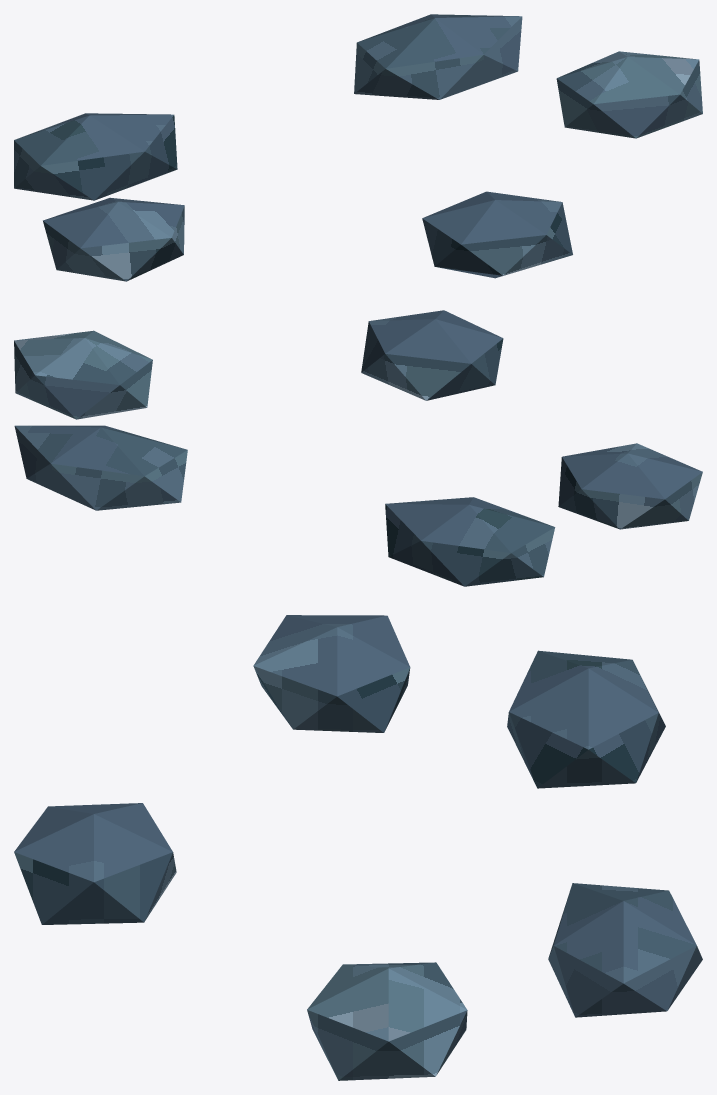
The model's file is enfeite_seixos.fbx.
The picture shows the model from 3 angles, top to bottom: view 1: azimuth 30°, elevation 25°; view 2: azimuth 150°, elevation 25°; view 3: azimuth 270°, elevation 25°; orthographic projection. The views are drawn at different scales.
Parts seen in each view (by area): view 1: neve_enfeite_seixos; view 2: neve_enfeite_seixos; view 3: neve_enfeite_seixos.
Boxes of the visible parts, <box> form: neve_enfeite_seixos: <box>14,14,702,281</box>; neve_enfeite_seixos: <box>14,310,702,586</box>; neve_enfeite_seixos: <box>14,615,702,1080</box>.
Size of the model in its own units: 44.73 by 5.23 by 30.27.
1 material, 1 textured.
